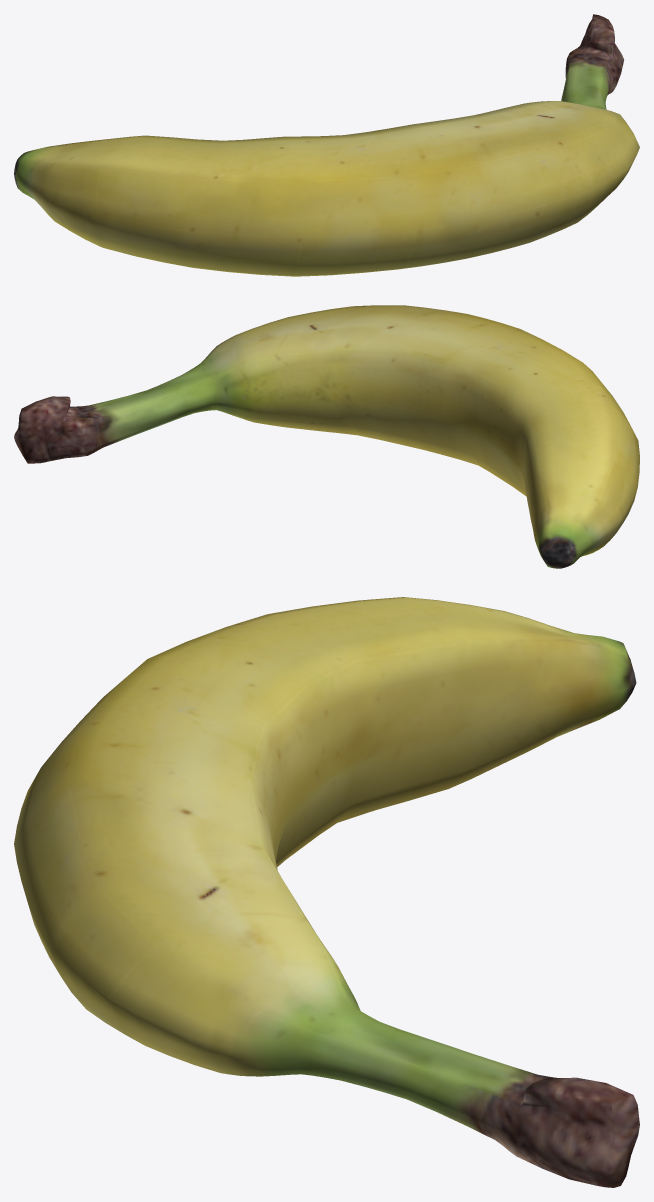
3 views of the same model, one above another, from view 1: azimuth 30°, elevation 25°; view 2: azimuth 150°, elevation 25°; view 3: azimuth 270°, elevation 25° (orthographic). The views are drawn at different scales.
Bounding box in the file's own units: 5.98 × 1.11 × 3.31.
1 material, 1 textured.
